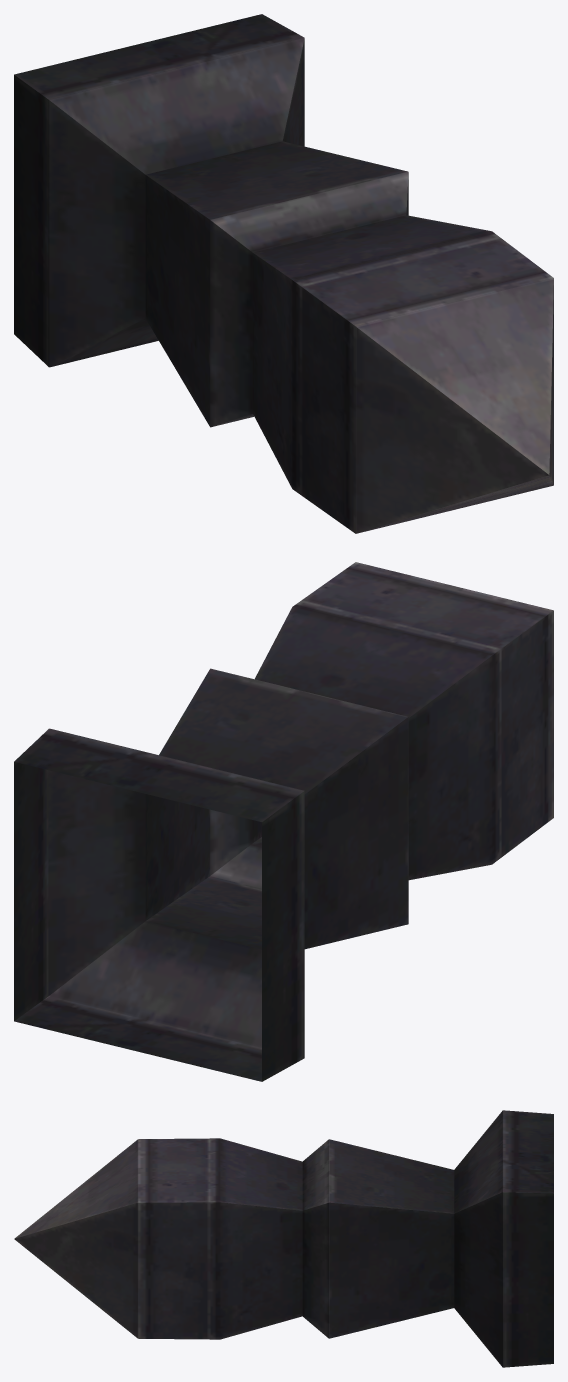
The model's file is shenjie_fuben_02_langan01.obj.
3 views of the same model, one above another, from view 1: azimuth 30°, elevation 25°; view 2: azimuth 150°, elevation 25°; view 3: azimuth 270°, elevation 25° (orthographic). The views are drawn at different scales.
Parts seen in each view (by area): view 1: shenjie_fuben_02_langan01; view 2: shenjie_fuben_02_langan01; view 3: shenjie_fuben_02_langan01.
Part boxes in pixels (left/top/right/bottom): shenjie_fuben_02_langan01: left=14, top=14, right=553, bottom=533; shenjie_fuben_02_langan01: left=14, top=562, right=553, bottom=1081; shenjie_fuben_02_langan01: left=14, top=1110, right=553, bottom=1367.
Bounding box in the file's own units: 45.18 × 45.18 × 126.
1 material, 1 textured.
